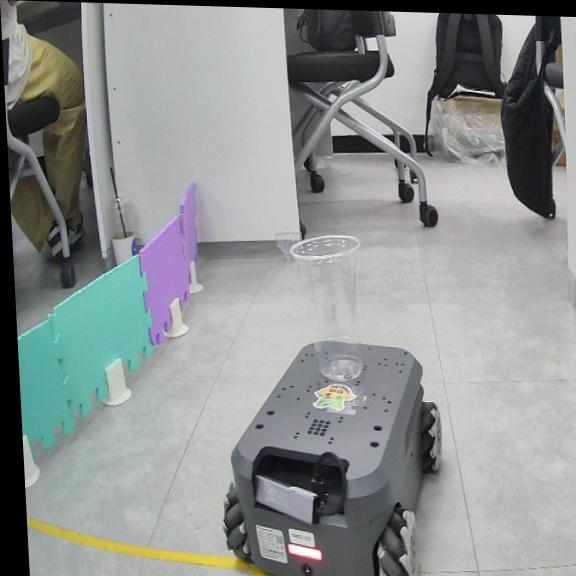Plastik: (290, 235, 363, 381)
